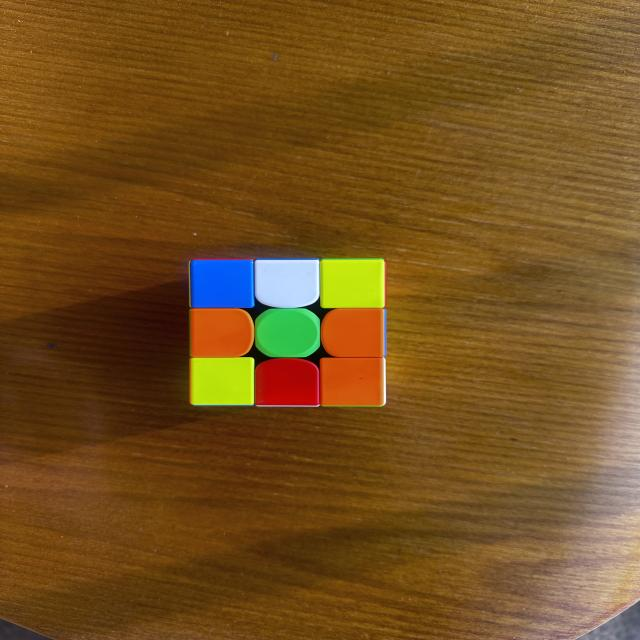sticker: (252, 258, 322, 310), (189, 258, 257, 311), (319, 258, 387, 310), (254, 308, 322, 360), (318, 357, 387, 408), (320, 308, 388, 359), (189, 308, 255, 359), (189, 357, 255, 407), (254, 358, 321, 407)
